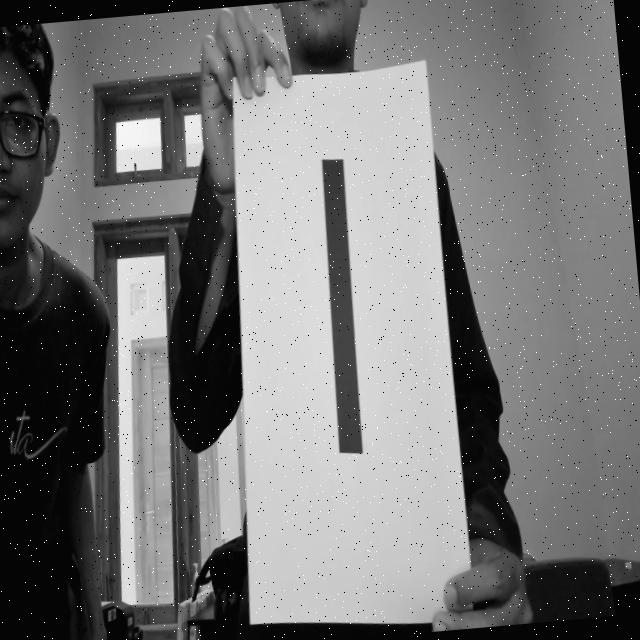i: (302, 143, 382, 484)
